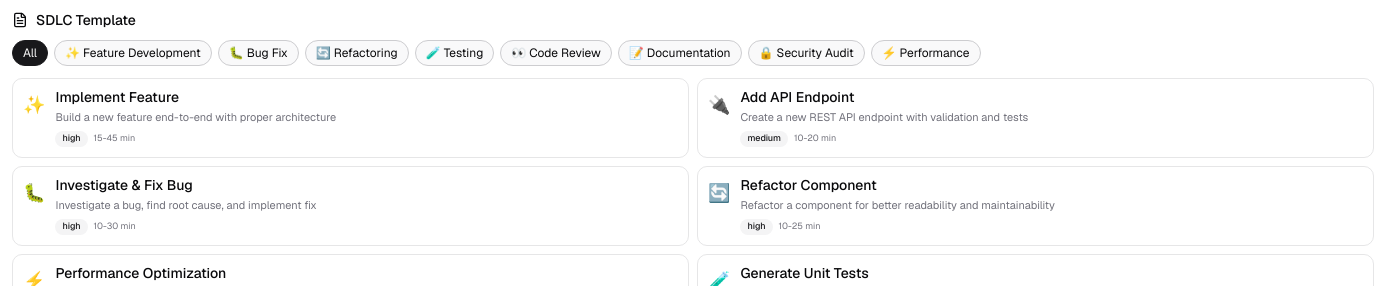
Test case: TemplatePicker › filters templates when a category is selected
Click the button "✨ Feature Development".
click(133, 53)  # box [54, 40, 212, 66]
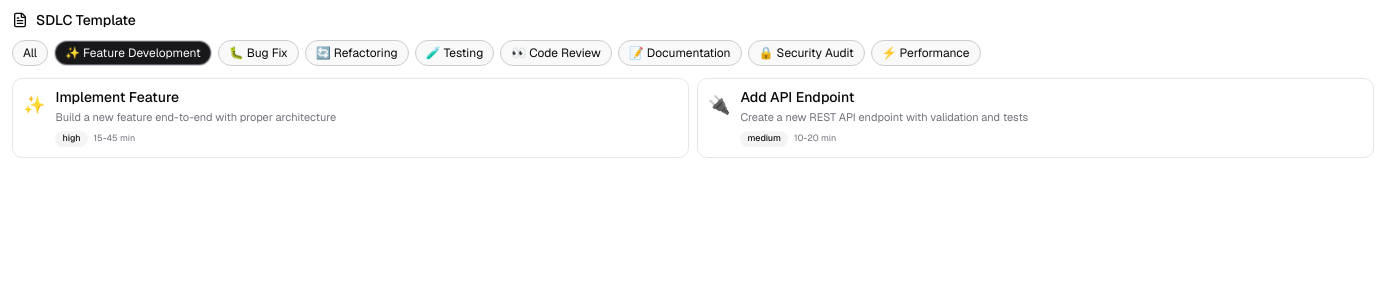
Expected: the button "Investigate & Fix Bug" is gone
Expected: the button "Refactor Component" is gone
Expected: the button "Performance Optimization" is gone
